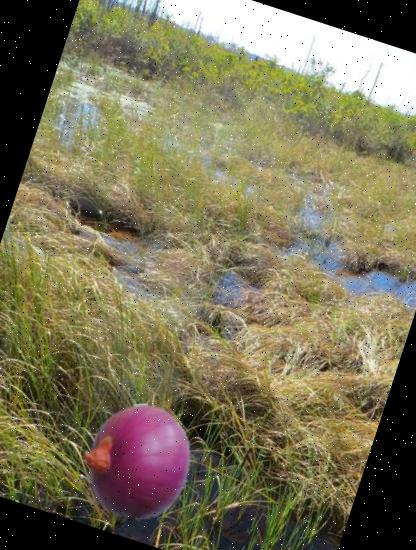Onion: (64, 388, 213, 537)
